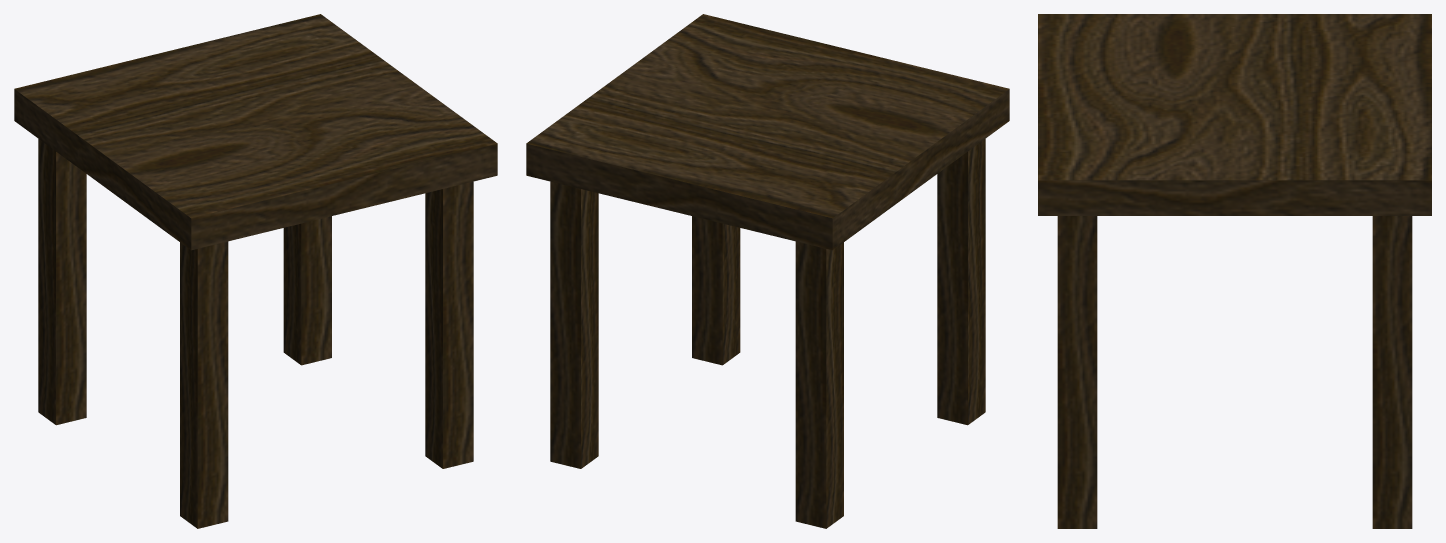
File: woodtable.fbx
The picture shows the model from 3 angles, left to right: view 1: azimuth 30°, elevation 25°; view 2: azimuth 150°, elevation 25°; view 3: azimuth 270°, elevation 25°; orthographic projection. The views are drawn at different scales.
Parts seen in each view (by area): view 1: woodtable; view 2: woodtable; view 3: woodtable.
Part boxes in pixels (x1=…): woodtable: x1=14, y1=14, x2=497, y2=528; woodtable: x1=526, y1=14, x2=1009, y2=528; woodtable: x1=1038, y1=14, x2=1431, y2=528.
Bounding box in the file's own units: 200 × 200 × 200.
Materials: 1 (1 with a texture image).
